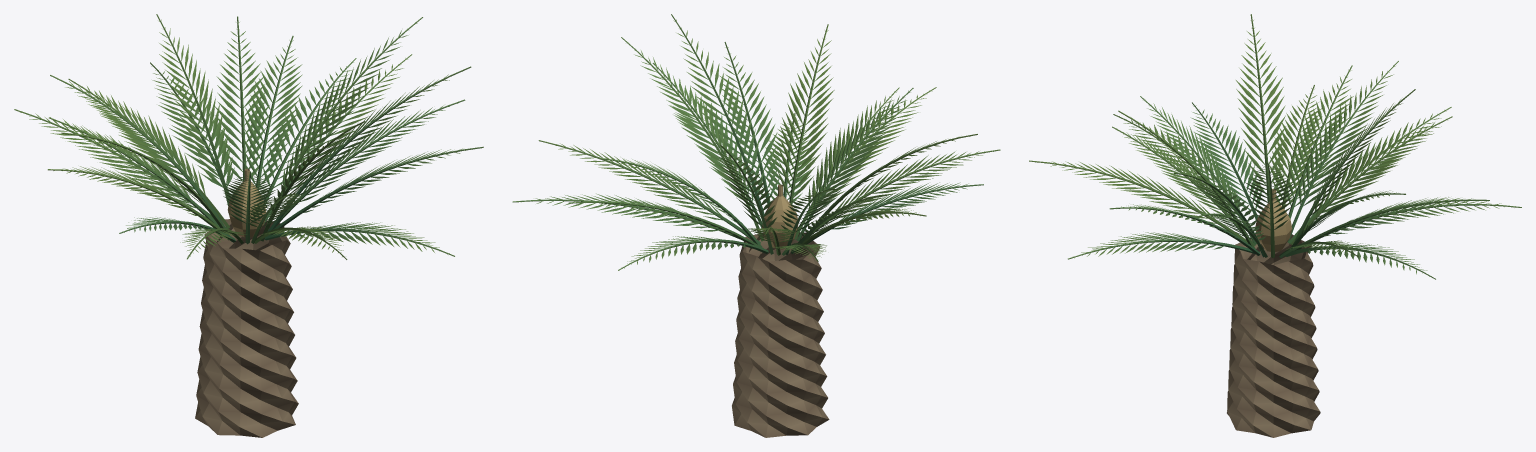
File: cycad_a.glb
3 renders of one model, left to right at view 1: azimuth 30°, elevation 25°; view 2: azimuth 150°, elevation 25°; view 3: azimuth 270°, elevation 25°, orthographic. The views are drawn at different scales.
Visible parts, largest first — view 1: cycad_a; view 2: cycad_a; view 3: cycad_a.
Part boxes in pixels (box(x1,y1,x2,y2)): cycad_a: box(14, 14, 483, 437); cycad_a: box(512, 14, 1000, 437); cycad_a: box(1029, 14, 1521, 437).
Bounding box in the file's own units: 3.03 × 2.55 × 3.43.
